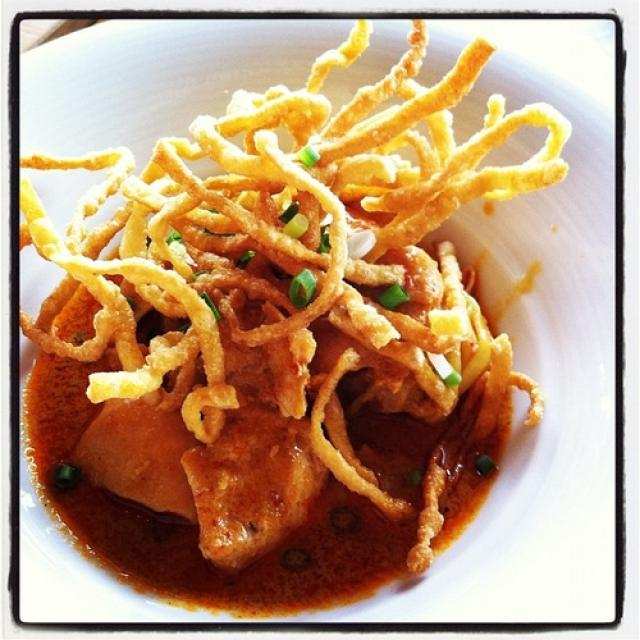面条主食: (23, 37, 549, 616)
